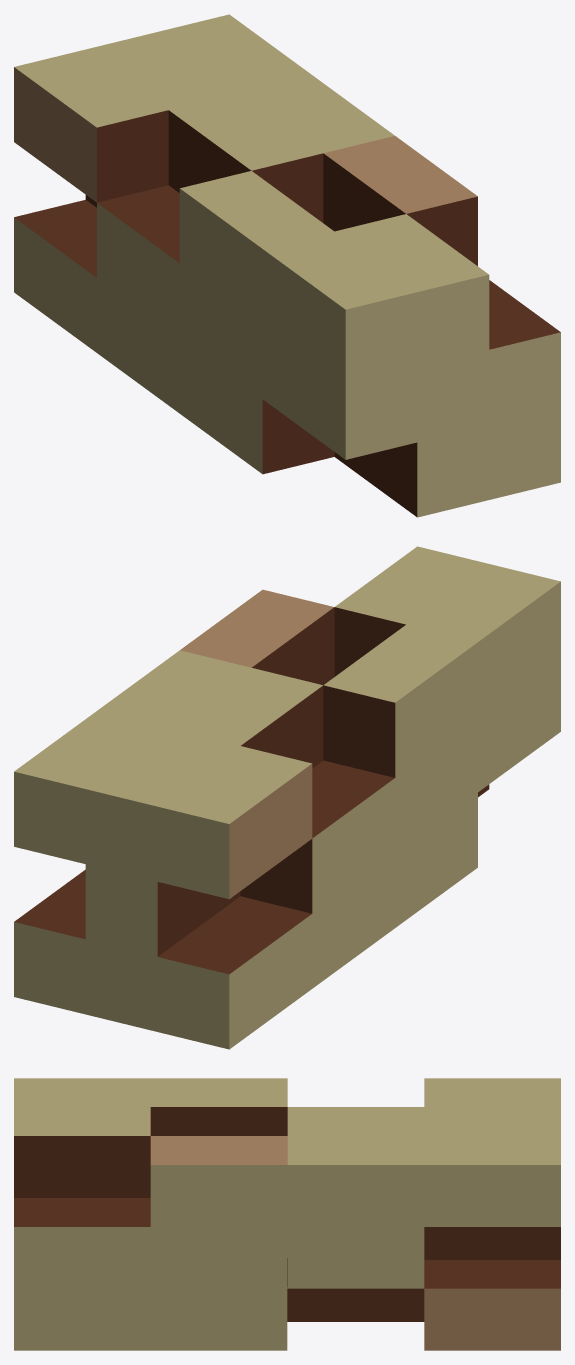
The model's file is rope.fbx.
3 renders of one model, top to bottom at view 1: azimuth 30°, elevation 25°; view 2: azimuth 150°, elevation 25°; view 3: azimuth 270°, elevation 25°, orthographic. The views are drawn at different scales.
Parts seen in each view (by area): view 1: Cube; view 2: Cube; view 3: Cube.
Boxes of the visible parts, x1=… form: Cube: x1=14, y1=14, x2=560, y2=517; Cube: x1=14, y1=546, x2=560, y2=1049; Cube: x1=14, y1=1078, x2=560, y2=1350.
Bounding box in the file's own units: 30 × 30 × 80.
